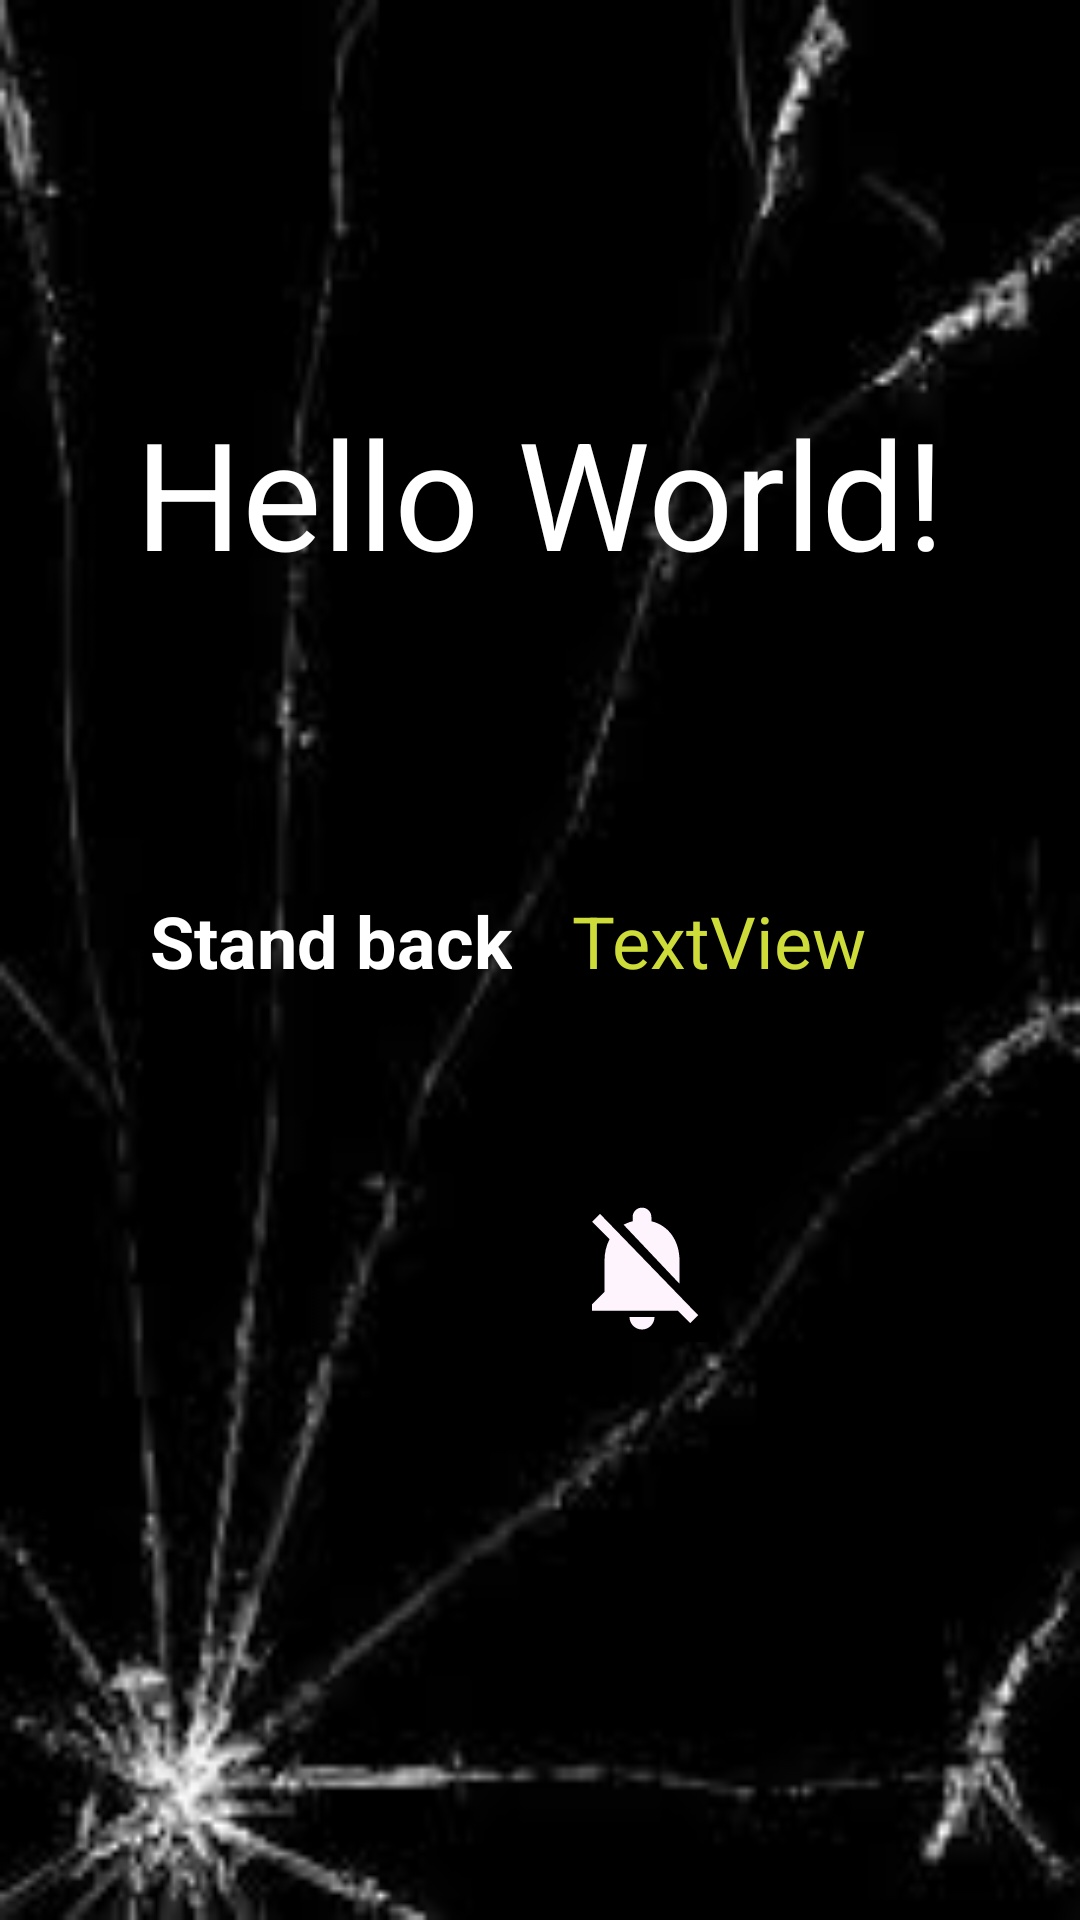

Screen size 1080w x 1920h. Icon name, then its box in pixels as (x1, y1, x2, y2):
offsound: (592, 1207, 698, 1330)
